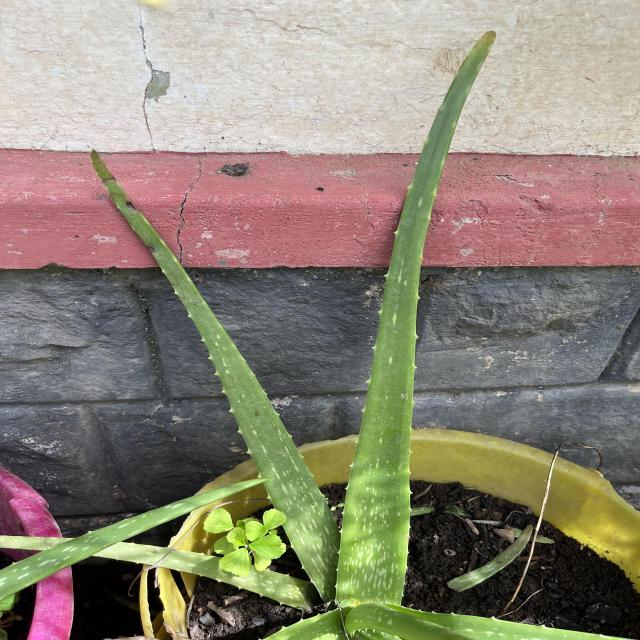Aloe vera: (85, 146, 350, 598), (333, 24, 501, 618)
